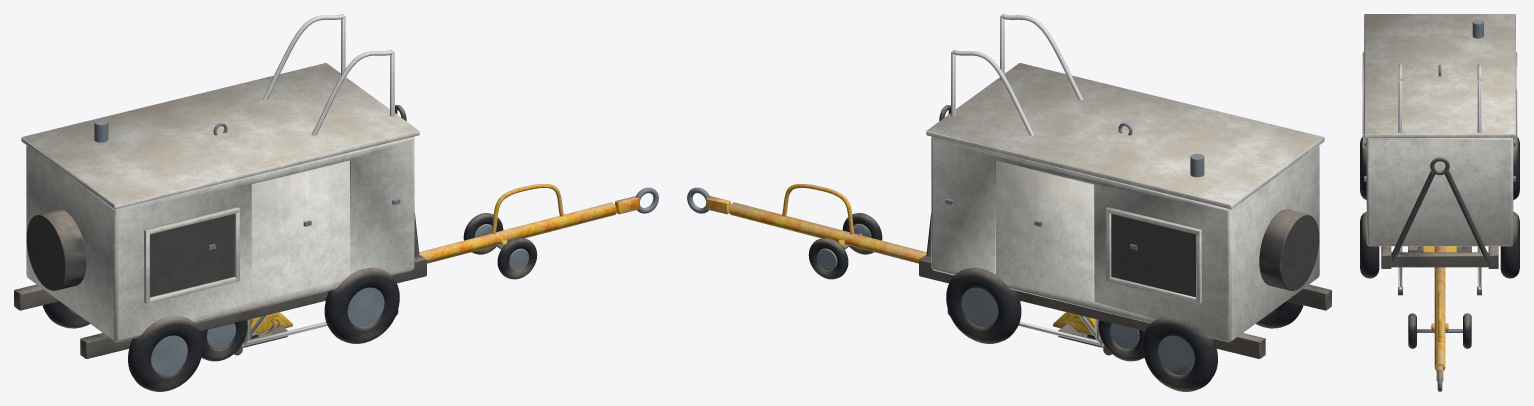
The model's file is ramp.glb.
The picture shows the model from 3 angles, left to right: view 1: azimuth 30°, elevation 25°; view 2: azimuth 150°, elevation 25°; view 3: azimuth 270°, elevation 25°; orthographic projection. The views are drawn at different scales.
Visible parts, largest first — view 1: gpu, towbar, stand, extinguisher; view 2: gpu, towbar, stand, extinguisher; view 3: gpu, towbar, stand, driptray, chocks_main.
Boxes of the visible parts, bbox=[...] form: gpu: bbox=[14, 63, 426, 391]; towbar: bbox=[419, 184, 658, 279]; stand: bbox=[234, 14, 398, 355]; extinguisher: bbox=[200, 320, 247, 361]; gpu: bbox=[919, 63, 1331, 391]; towbar: bbox=[687, 184, 926, 279]; stand: bbox=[947, 14, 1111, 355]; extinguisher: bbox=[1098, 320, 1145, 361]; gpu: bbox=[1360, 14, 1519, 278]; towbar: bbox=[1408, 246, 1471, 391]; stand: bbox=[1398, 64, 1481, 295]; driptray: bbox=[1408, 246, 1471, 252]; chocks_main: bbox=[1417, 246, 1456, 252].
Bounding box in the file's own units: 4.49 × 1.89 × 1.25.
8 materials, 8 textured.
